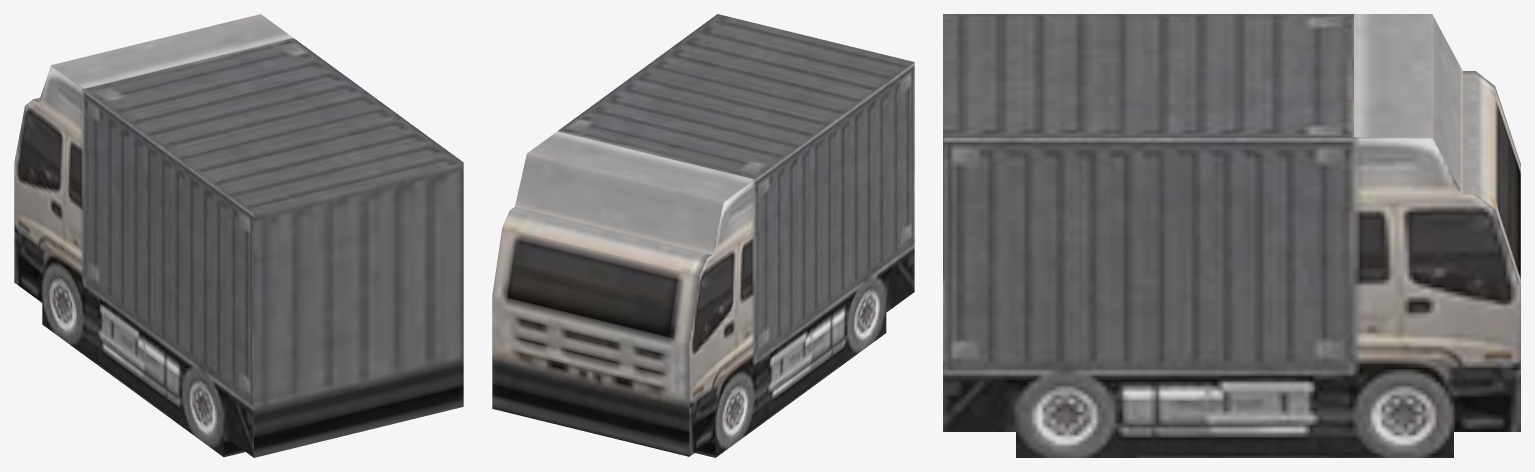
The model's file is kenney-retro-urban-truck-grey.glb.
The picture shows the model from 3 angles, left to right: view 1: azimuth 30°, elevation 25°; view 2: azimuth 150°, elevation 25°; view 3: azimuth 270°, elevation 25°; orthographic projection. The views are drawn at different scales.
Parts seen in each view (by area): view 1: truck-grey; view 2: truck-grey; view 3: truck-grey.
Boxes of the visible parts, x1,y1,x2,y2 form: truck-grey: (14,14,463,457); truck-grey: (492,14,914,457); truck-grey: (943,14,1520,457).
Bounding box in the file's own units: 0.8301 × 1.01 × 1.64.
1 material, 1 textured.
